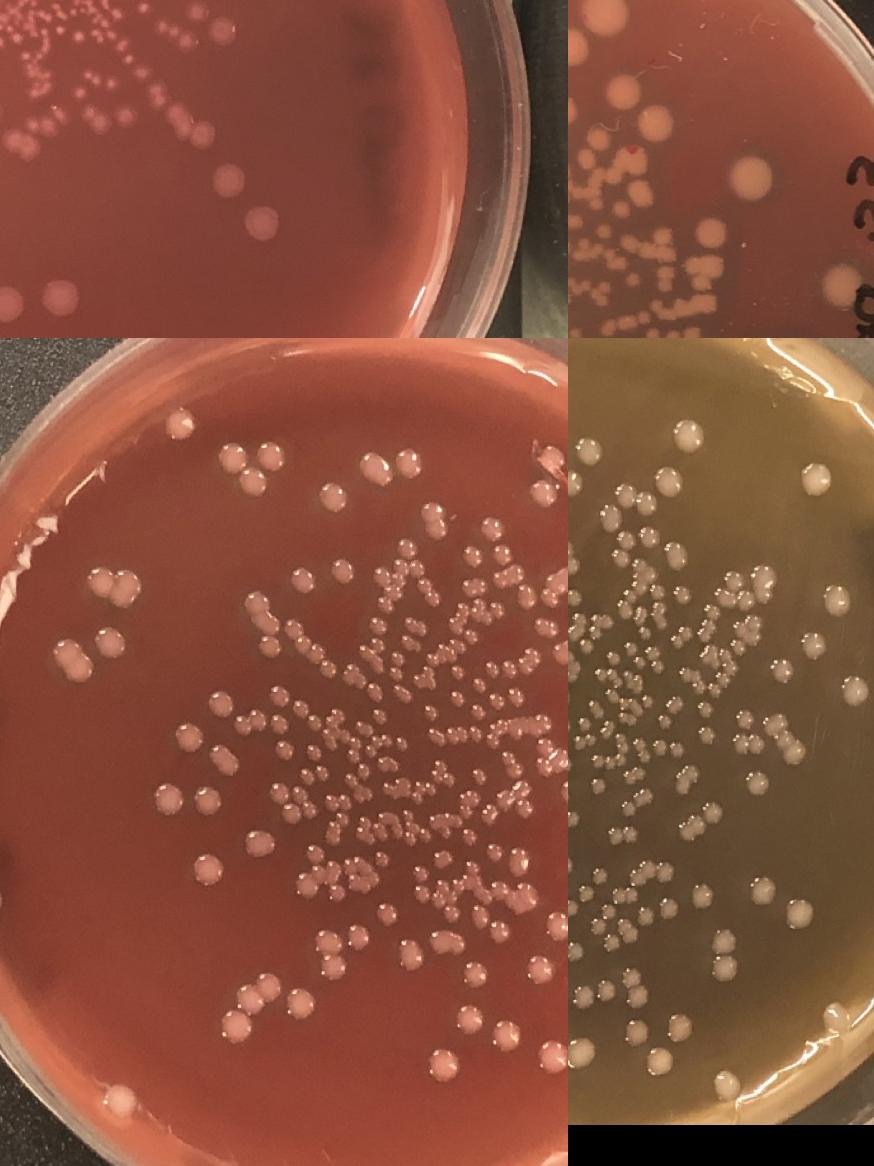pddamselae: (342, 731, 410, 802), (402, 787, 483, 846), (294, 841, 364, 899), (598, 506, 662, 568), (266, 764, 330, 823), (469, 645, 544, 694), (284, 618, 338, 678), (370, 559, 426, 612), (714, 566, 775, 611), (479, 779, 534, 822), (728, 153, 774, 201), (469, 685, 527, 721), (356, 613, 390, 673), (237, 972, 282, 1014), (514, 573, 568, 608), (708, 926, 740, 984), (314, 930, 349, 982), (466, 903, 512, 942), (676, 802, 722, 841), (613, 480, 662, 516), (412, 756, 456, 796), (693, 660, 739, 698), (682, 252, 726, 291), (580, 0, 629, 35), (54, 638, 94, 680), (490, 542, 526, 588), (87, 568, 142, 598), (570, 976, 620, 1008), (590, 730, 630, 770), (576, 126, 612, 170), (636, 104, 676, 142), (568, 25, 591, 91), (430, 876, 463, 922), (604, 72, 642, 110), (620, 964, 651, 1010), (576, 865, 612, 902), (324, 793, 352, 837), (692, 216, 728, 250), (636, 898, 680, 925), (207, 742, 240, 776), (427, 928, 467, 956), (358, 808, 393, 838), (471, 598, 508, 626), (292, 699, 323, 731), (654, 465, 686, 496), (422, 500, 448, 538), (822, 584, 854, 614), (688, 880, 718, 910), (748, 876, 778, 906), (784, 898, 814, 928), (840, 676, 870, 706), (802, 465, 831, 496), (448, 618, 480, 646), (568, 521, 584, 577), (622, 1016, 650, 1048), (568, 1038, 597, 1068), (578, 436, 607, 466), (668, 1011, 697, 1041), (674, 422, 703, 452), (713, 1068, 742, 1098), (766, 654, 795, 684), (644, 1048, 672, 1078), (822, 1003, 850, 1033), (536, 749, 568, 775), (96, 629, 125, 657), (220, 444, 248, 473), (240, 467, 268, 496), (800, 629, 828, 658), (156, 786, 184, 814), (167, 412, 195, 440), (176, 723, 204, 751), (195, 786, 223, 814), (206, 690, 234, 718), (222, 1012, 250, 1040), (259, 440, 287, 468), (286, 991, 314, 1019), (288, 566, 316, 594), (320, 482, 348, 510), (328, 557, 356, 585), (362, 452, 390, 480), (394, 450, 422, 478), (394, 943, 422, 971), (430, 1052, 458, 1080), (456, 1006, 484, 1034), (491, 1022, 519, 1050), (506, 848, 534, 876), (526, 957, 554, 985), (538, 442, 566, 470), (540, 1042, 568, 1070), (234, 711, 267, 734), (194, 857, 222, 884), (243, 588, 270, 616), (462, 961, 489, 989), (477, 512, 504, 540), (531, 480, 558, 508), (248, 829, 274, 858), (416, 578, 442, 607), (605, 825, 641, 845), (764, 711, 790, 738), (388, 649, 408, 683), (664, 544, 690, 570), (744, 770, 770, 796), (782, 739, 808, 765), (544, 913, 568, 941), (499, 749, 522, 778), (425, 725, 460, 744), (258, 633, 282, 657), (268, 684, 292, 708), (462, 544, 486, 568), (732, 734, 764, 752), (273, 738, 298, 761), (533, 616, 561, 636), (644, 646, 664, 674), (431, 847, 454, 871), (403, 616, 430, 636), (664, 324, 702, 338), (376, 902, 398, 925), (650, 600, 668, 628), (462, 577, 488, 596), (610, 198, 632, 220), (568, 275, 591, 296), (623, 765, 647, 785), (573, 731, 600, 748), (595, 280, 612, 306), (586, 916, 608, 936), (601, 933, 623, 953), (654, 862, 676, 882), (632, 739, 651, 762), (553, 638, 568, 667), (326, 882, 346, 902), (409, 884, 429, 904), (410, 862, 430, 882), (418, 703, 438, 723), (446, 688, 466, 708), (448, 660, 468, 680), (485, 843, 505, 863), (568, 469, 583, 495), (271, 714, 291, 732), (370, 707, 390, 725), (568, 942, 586, 962), (398, 538, 417, 556), (490, 880, 509, 898), (306, 745, 324, 763), (342, 666, 360, 684), (366, 682, 384, 700), (373, 850, 391, 868), (536, 712, 554, 730), (636, 788, 654, 806), (674, 586, 692, 604), (676, 624, 694, 642), (698, 726, 716, 744), (461, 826, 477, 846), (348, 930, 366, 947), (466, 724, 483, 742), (470, 767, 488, 784), (536, 738, 554, 755), (682, 766, 700, 783), (736, 709, 754, 726), (568, 93, 577, 126), (600, 318, 618, 334), (656, 277, 674, 293), (462, 860, 481, 874), (380, 779, 394, 797), (426, 650, 440, 668), (568, 897, 580, 917), (568, 587, 581, 605), (320, 726, 334, 742), (573, 612, 587, 626), (580, 638, 594, 652), (591, 779, 605, 793), (622, 802, 636, 816), (623, 588, 637, 602), (636, 604, 650, 618), (640, 626, 654, 640), (650, 584, 664, 598), (654, 740, 668, 754), (658, 714, 672, 728), (669, 697, 683, 711), (672, 742, 686, 756), (700, 702, 714, 716), (596, 223, 610, 236), (580, 718, 594, 731), (645, 326, 660, 338), (403, 807, 416, 820), (568, 326, 582, 338), (625, 274, 639, 286), (638, 310, 650, 324), (561, 784, 568, 808), (642, 694, 656, 706), (732, 642, 746, 654)
tmaritimum: (146, 82, 214, 148), (20, 9, 51, 61), (44, 279, 80, 315), (212, 163, 248, 199), (243, 204, 278, 240), (2, 128, 40, 160), (206, 12, 239, 46), (25, 61, 52, 98), (80, 102, 111, 132), (0, 285, 24, 321), (80, 70, 118, 92), (41, 0, 77, 21), (0, 11, 22, 43), (114, 105, 138, 128), (178, 30, 200, 54), (184, 0, 208, 22), (88, 26, 118, 42), (125, 0, 152, 17), (40, 119, 58, 137), (71, 82, 89, 100), (134, 63, 152, 81), (152, 14, 170, 32), (49, 102, 66, 120), (72, 28, 86, 44), (120, 52, 136, 66), (116, 38, 131, 52), (38, 8, 51, 22), (16, 0, 36, 8)
